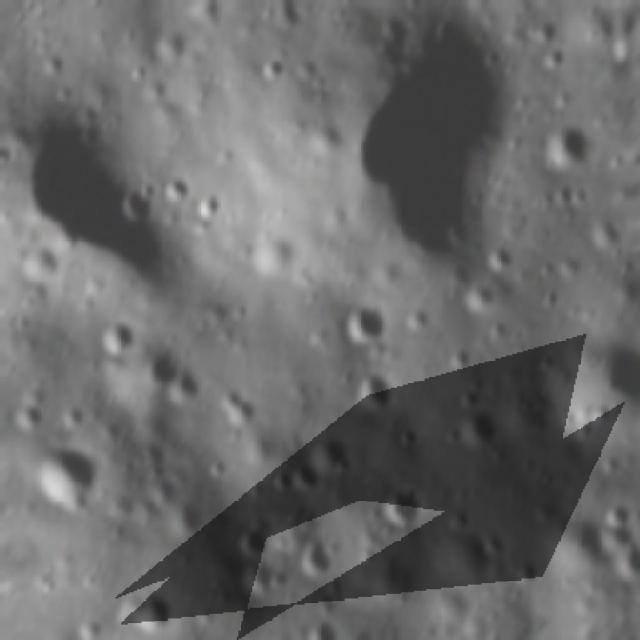crater: (326, 0, 519, 272), (11, 90, 175, 287), (546, 319, 640, 433), (21, 440, 107, 522), (531, 111, 594, 180), (117, 578, 181, 640), (335, 361, 396, 416), (334, 294, 392, 351), (208, 379, 262, 435), (297, 426, 351, 482), (377, 480, 428, 537), (450, 401, 504, 453), (138, 339, 187, 396), (105, 182, 163, 230), (233, 554, 284, 608), (18, 239, 64, 295), (294, 530, 338, 585), (229, 512, 276, 562), (162, 494, 205, 544), (456, 276, 502, 321), (279, 452, 323, 499), (154, 162, 195, 208), (95, 313, 133, 362), (542, 174, 590, 211), (598, 518, 638, 557), (298, 120, 340, 157), (140, 472, 180, 510), (38, 48, 77, 86), (588, 212, 623, 252), (482, 238, 520, 274), (612, 540, 640, 588), (597, 493, 632, 530), (308, 580, 342, 617), (187, 188, 222, 223), (527, 16, 561, 52), (386, 419, 422, 452), (253, 48, 284, 86), (511, 551, 542, 589), (538, 43, 572, 77), (287, 51, 319, 84), (140, 436, 174, 467), (200, 454, 232, 486), (551, 250, 583, 282), (66, 615, 106, 640), (401, 306, 432, 337), (443, 343, 472, 374), (439, 501, 468, 532), (480, 313, 511, 341), (537, 286, 569, 311), (316, 571, 346, 597), (481, 530, 508, 558), (223, 300, 249, 328), (512, 390, 536, 416), (126, 63, 148, 85), (0, 28, 6, 58)
